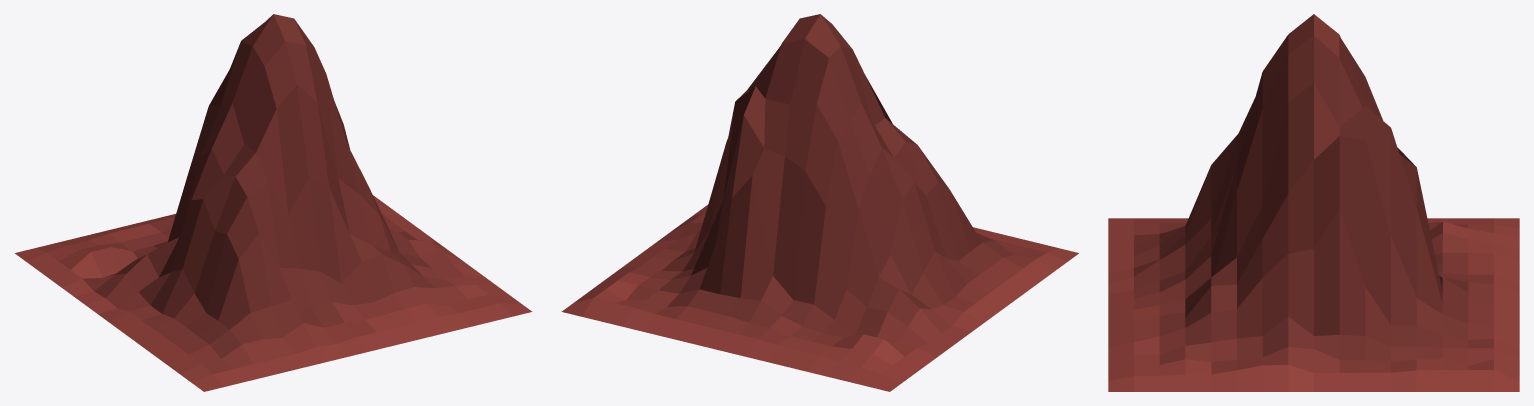
The model's file is Terrain_23_Red.fbx.
3 views of the same model, side by side, from view 1: azimuth 30°, elevation 25°; view 2: azimuth 150°, elevation 25°; view 3: azimuth 270°, elevation 25° (orthographic). The views are drawn at different scales.
Visible parts, largest first — view 1: Terrain_23_Red; view 2: Terrain_23_Red; view 3: Terrain_23_Red.
Part boxes in pixels (<box>): Terrain_23_Red: <box>15,14,532,391</box>; Terrain_23_Red: <box>561,14,1078,391</box>; Terrain_23_Red: <box>1108,14,1519,391</box>.
Bounding box in the file's own units: 10000 × 7811 × 10000.
